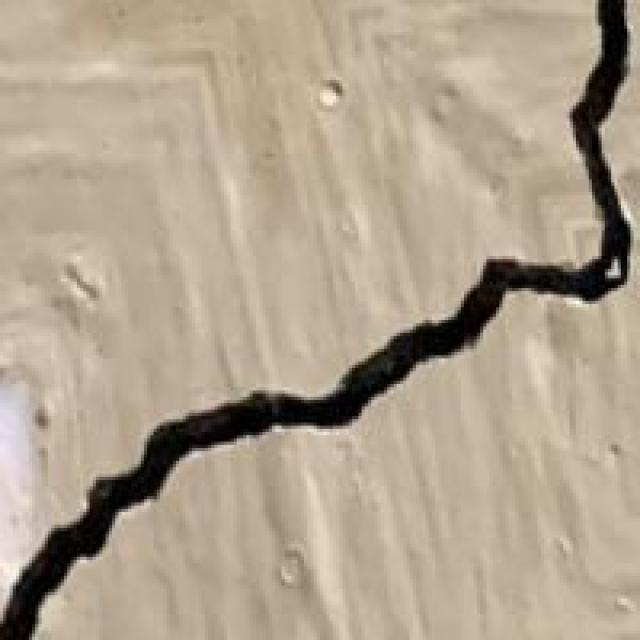crack: (6, 0, 637, 637)
